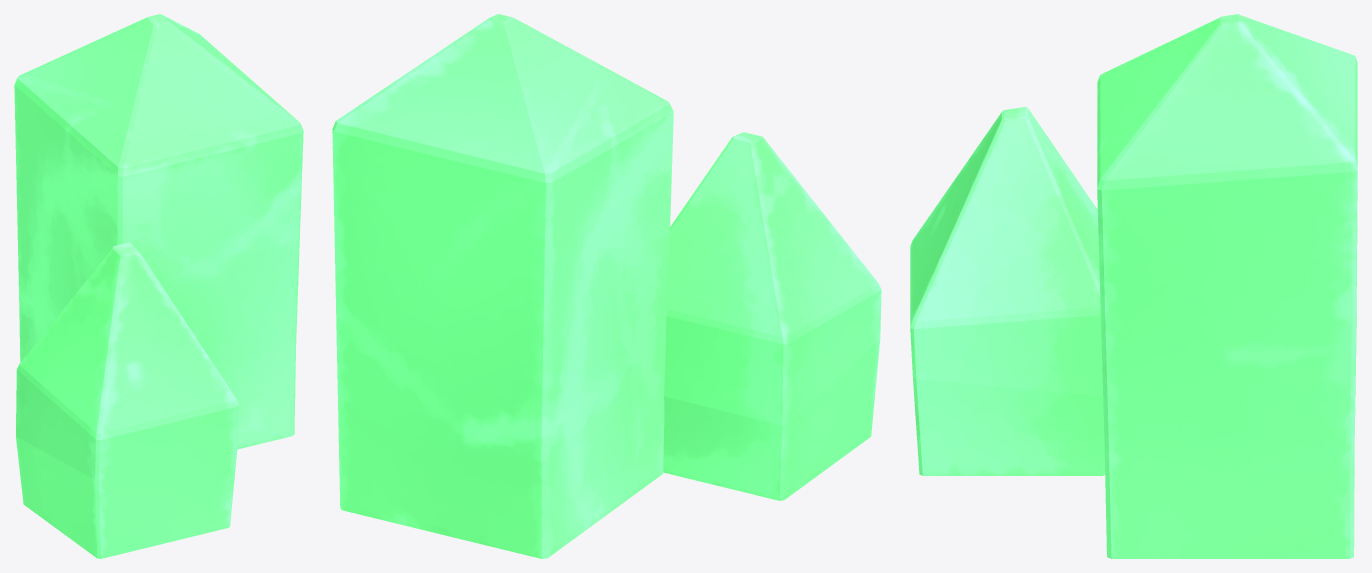
File: Gem_2.fbx
3 views of the same model, side by side, from view 1: azimuth 30°, elevation 25°; view 2: azimuth 150°, elevation 25°; view 3: azimuth 270°, elevation 25° (orthographic). The views are drawn at different scales.
Visible parts, largest first — view 1: gem.002; view 2: gem.002; view 3: gem.002.
Boxes of the visible parts, x1,y1,x2,y2 form: gem.002: (14,14,303,558); gem.002: (332,14,881,558); gem.002: (910,14,1357,558).
Size of the model in its own units: 0.7448 by 1.01 by 0.8325.
Materials: 1 (1 with a texture image).
